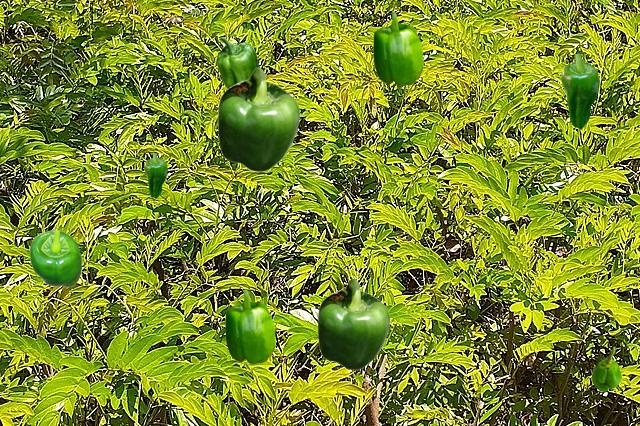bell_pepper: (217, 67, 299, 171), (317, 278, 389, 369), (225, 289, 274, 363), (373, 11, 422, 85), (29, 229, 81, 286), (561, 54, 598, 128), (216, 37, 258, 88), (592, 346, 620, 390), (144, 153, 166, 197)
